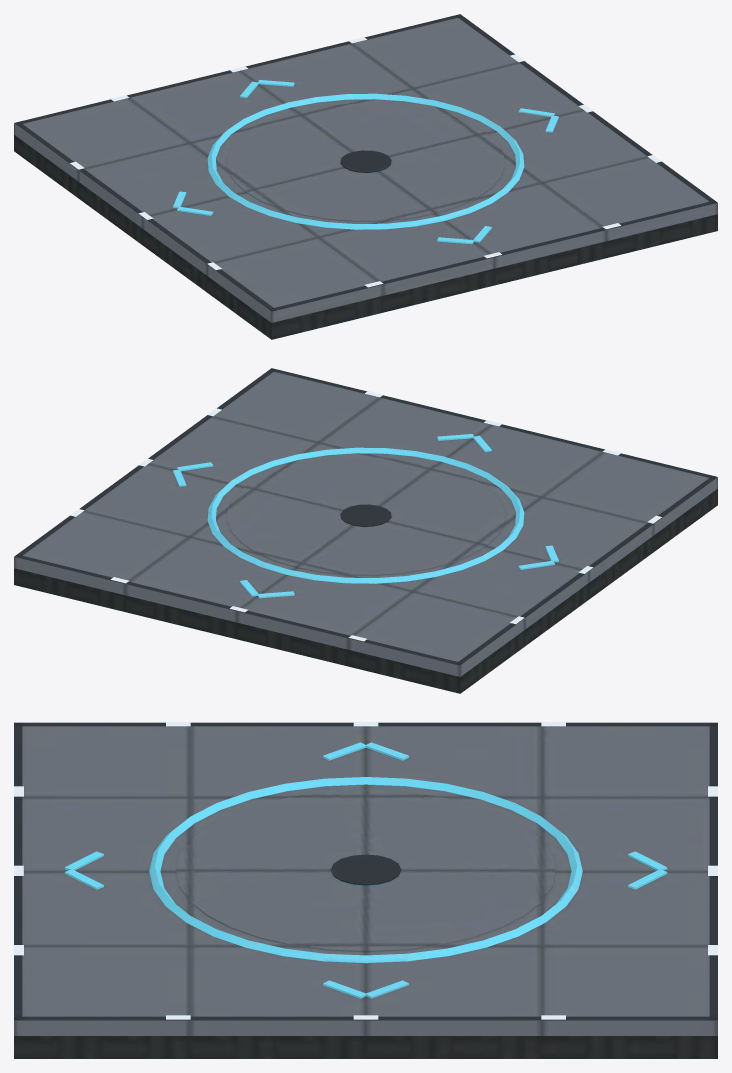
Rendered from hull_enterprise_dock.glb.
3 renders of one model, top to bottom at view 1: azimuth 30°, elevation 25°; view 2: azimuth 150°, elevation 25°; view 3: azimuth 270°, elevation 25°, orthographic. The views are drawn at different scales.
Parts seen in each view (by area): view 1: te_hull_enterprise_dock; view 2: te_hull_enterprise_dock; view 3: te_hull_enterprise_dock.
Boxes of the visible parts, x1,y1,x2,y2 form: te_hull_enterprise_dock: [14, 14, 717, 339]; te_hull_enterprise_dock: [14, 368, 717, 693]; te_hull_enterprise_dock: [14, 722, 717, 1058].
Bounding box in the file's own units: 1 × 0.069 × 1.
1 material, 1 textured.
